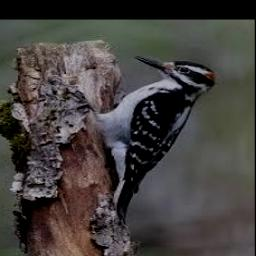Woodpecker: (95, 55, 215, 222)
